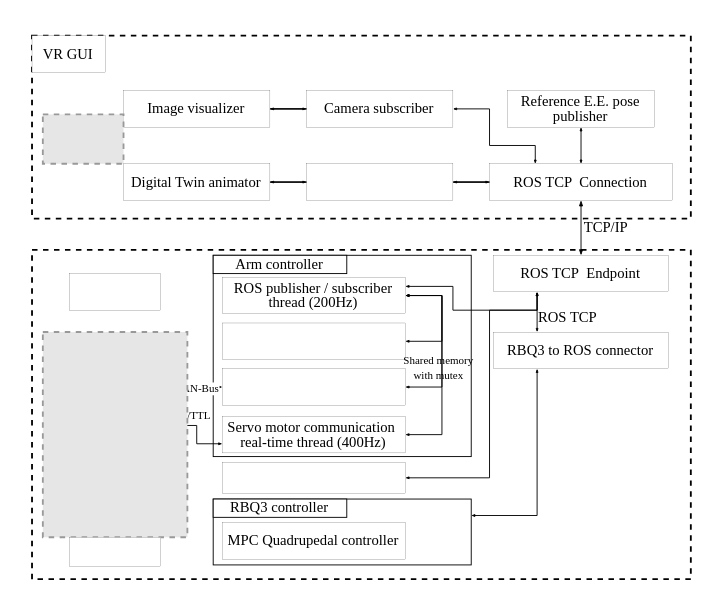
Some shapes in this 723 by 611 pixel diagram are drawn without their labels. Grey dashed boxes stand in for pictures. Each missing label, with the centre of its shape:
"CAN-Bus-communication real-time thread (500Hz)" goes at [313,386].
"Dynamic Robot Controller real-time thread (500Hz)" goes at [313,340].
"Image publisher" goes at [313,477].
"RBQ3" goes at [114,551].
"Robot state subscriber" goes at [379,181].
"ST-Arm 2.0" goes at [114,291].
